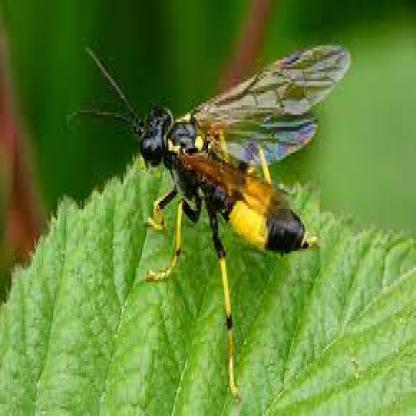sawfly: (75, 37, 359, 390)
